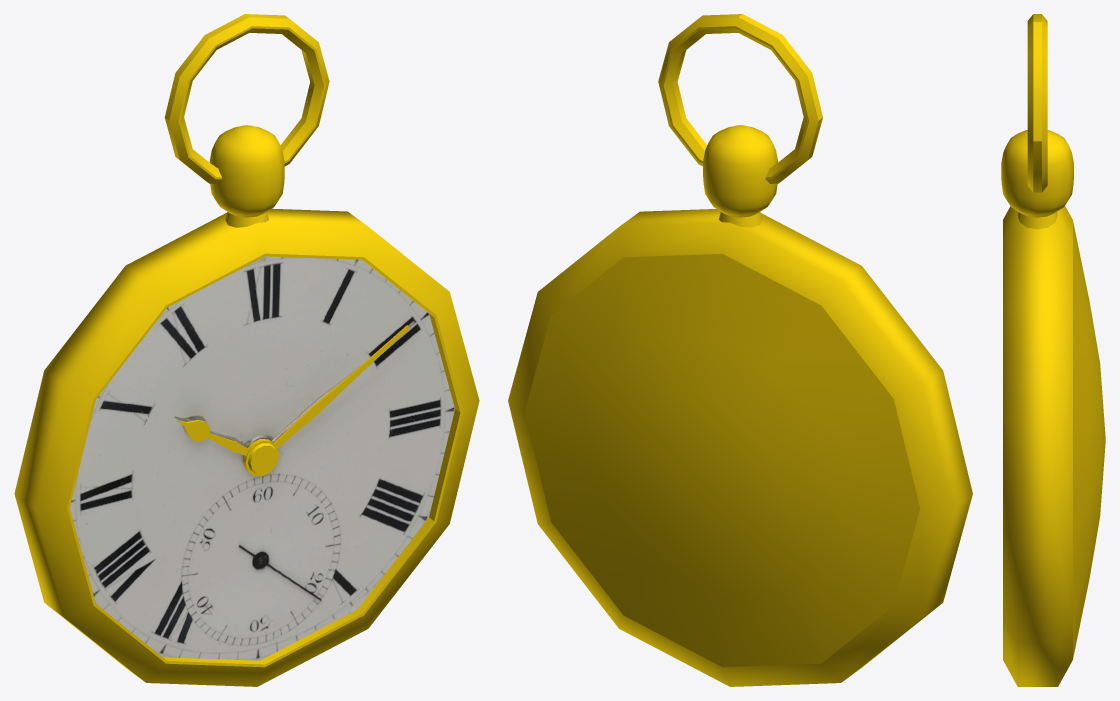
3 views of the same model, side by side, from view 1: azimuth 30°, elevation 25°; view 2: azimuth 150°, elevation 25°; view 3: azimuth 270°, elevation 25° (orthographic). The views are drawn at different scales.
Parts seen in each view (by area): view 1: Cylinder, Cylinder.004, Cylinder.003, Cube, Cylinder.002, Cube.001; view 2: Cylinder, Cylinder.004, Cylinder.003; view 3: Cylinder, Cylinder.003, Cylinder.004.
Boxes of the visible parts, box(x1,y1,x2,y2) form: Cylinder: box(14, 208, 479, 686); Cylinder.004: box(164, 14, 329, 183); Cylinder.003: box(209, 125, 284, 227); Cube: box(273, 325, 409, 448); Cylinder.002: box(243, 439, 279, 476); Cube.001: box(178, 420, 249, 456); Cylinder: box(508, 209, 972, 686); Cylinder.004: box(658, 14, 822, 183); Cylinder.003: box(703, 125, 778, 227); Cylinder: box(1003, 206, 1105, 686); Cylinder.003: box(1001, 130, 1073, 229); Cylinder.004: box(1027, 14, 1047, 192).
Size of the model in its own units: 334 by 478 by 70.45.
2 materials, 1 textured.
